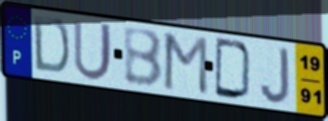B: (121, 26, 164, 90)
D: (213, 36, 254, 102), (32, 14, 72, 77)
J: (258, 45, 292, 106)
M: (162, 31, 210, 98)
U: (71, 18, 114, 83)
